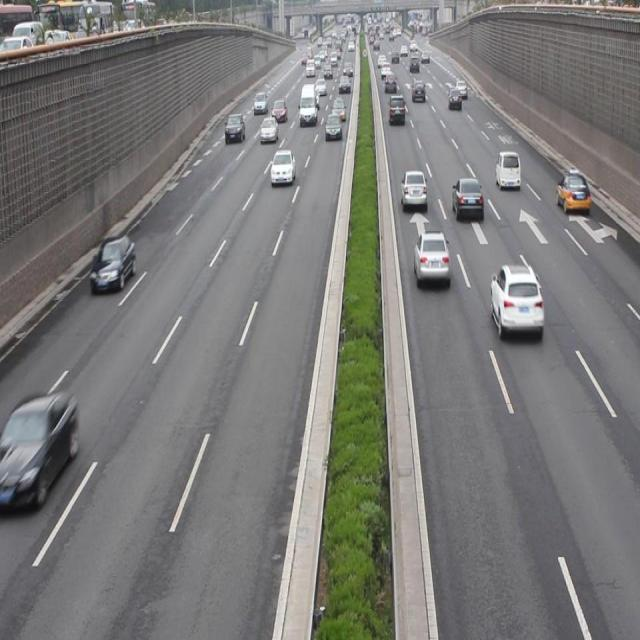car: (1, 391, 77, 511), (488, 263, 543, 340), (90, 235, 136, 292), (412, 230, 449, 286), (555, 170, 590, 214), (452, 176, 484, 222), (399, 168, 428, 211), (270, 147, 296, 187), (494, 148, 519, 187), (224, 110, 246, 142), (324, 112, 342, 140), (270, 96, 288, 124), (259, 115, 277, 142)
